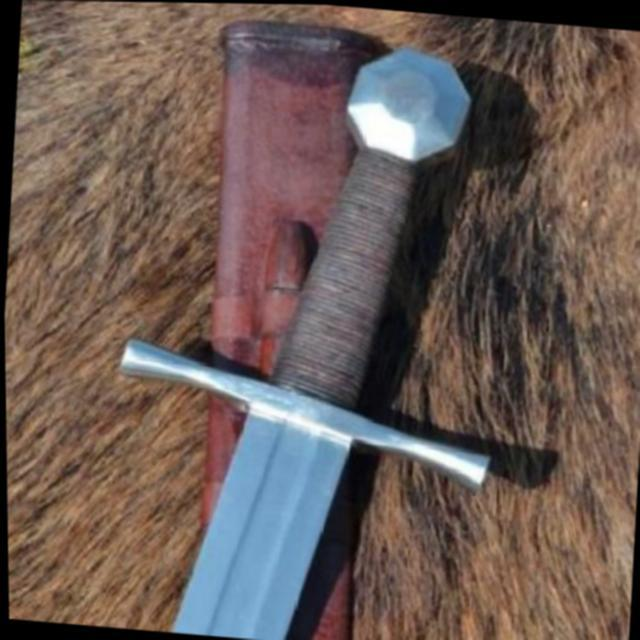weapon: (106, 9, 508, 640)
